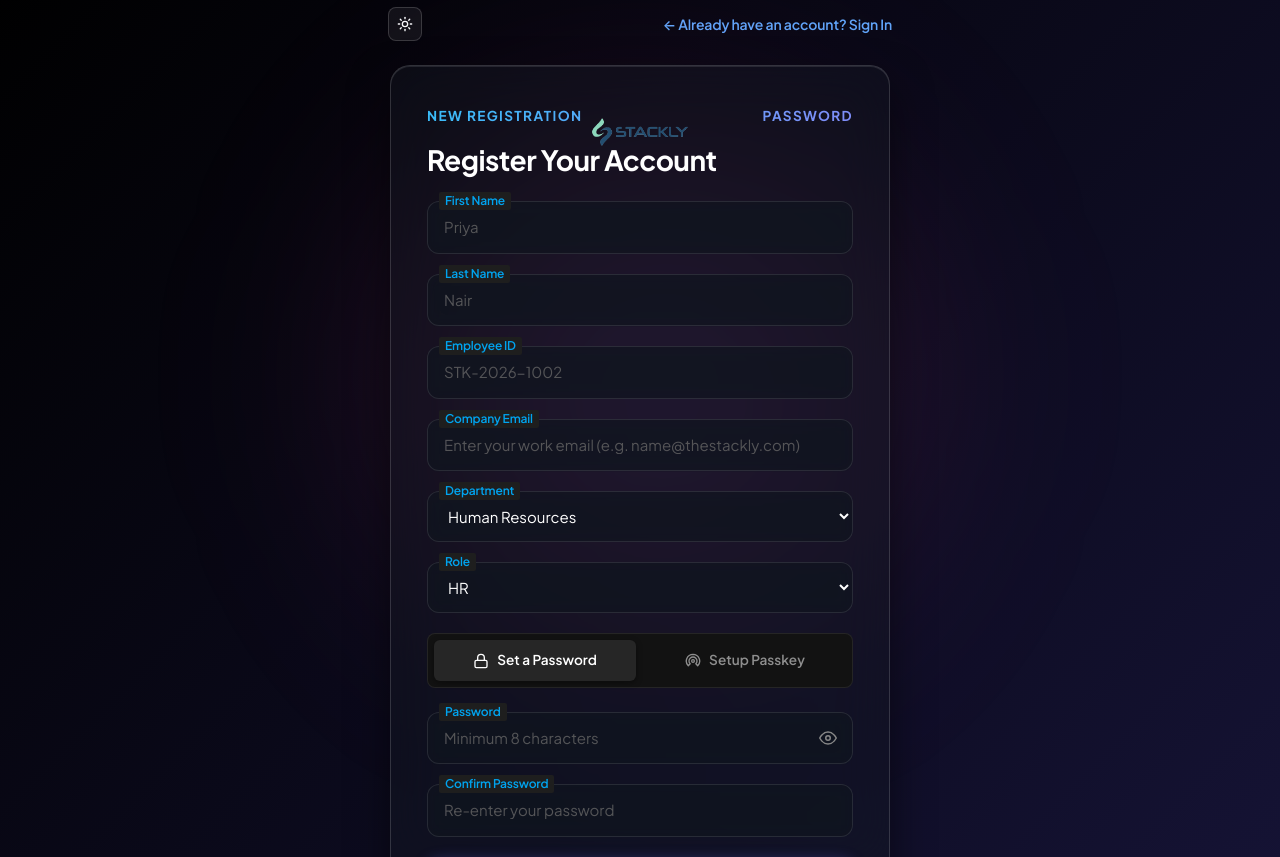
Test case: Step 3: SignUpPage Component Unit Tests › 3.3 should validate email format
The image size is (1280, 857).
Type "Jane" into the field labelled "First Name". click: (640, 228)
box: [427,201,853,254]
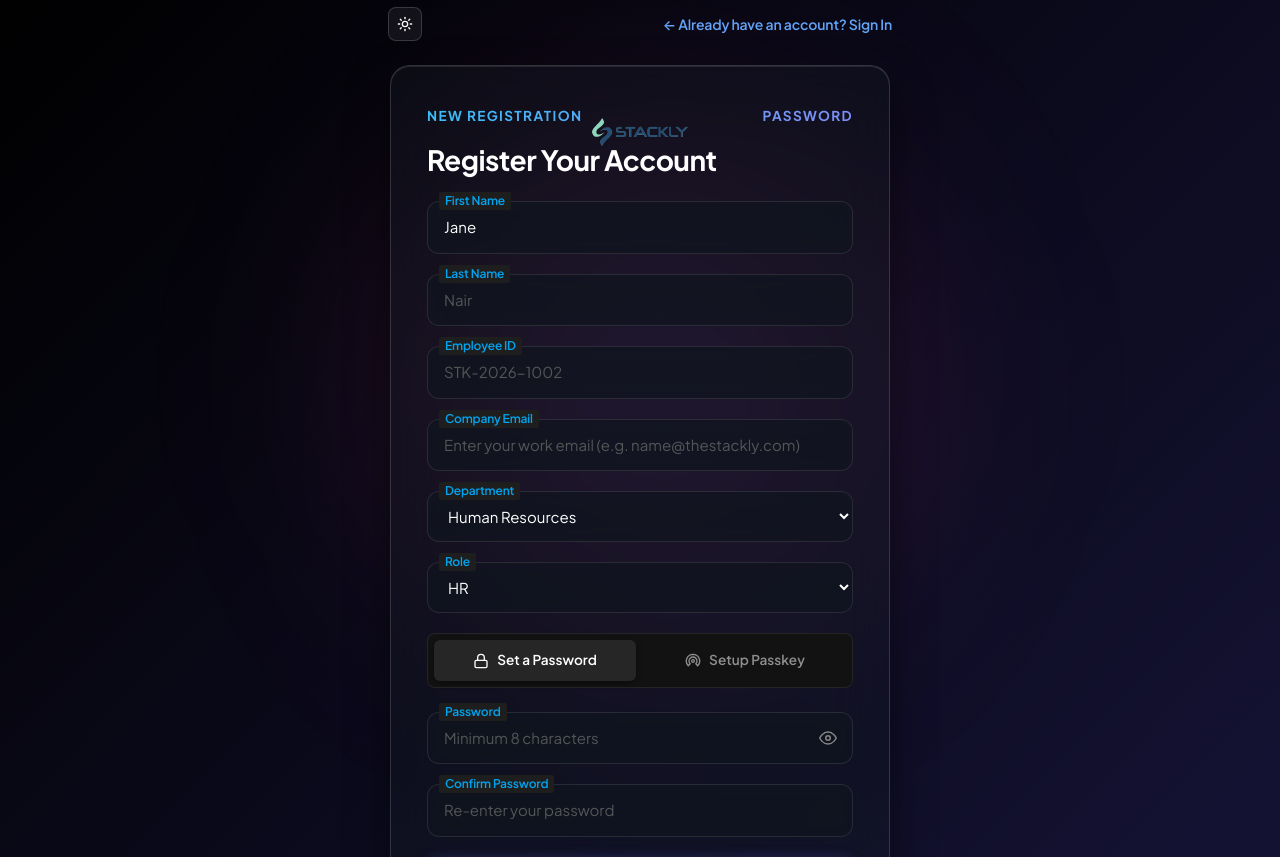
Type "Doe" into the field labelled "Last Name". click: (640, 300)
box: [427,274,853,326]
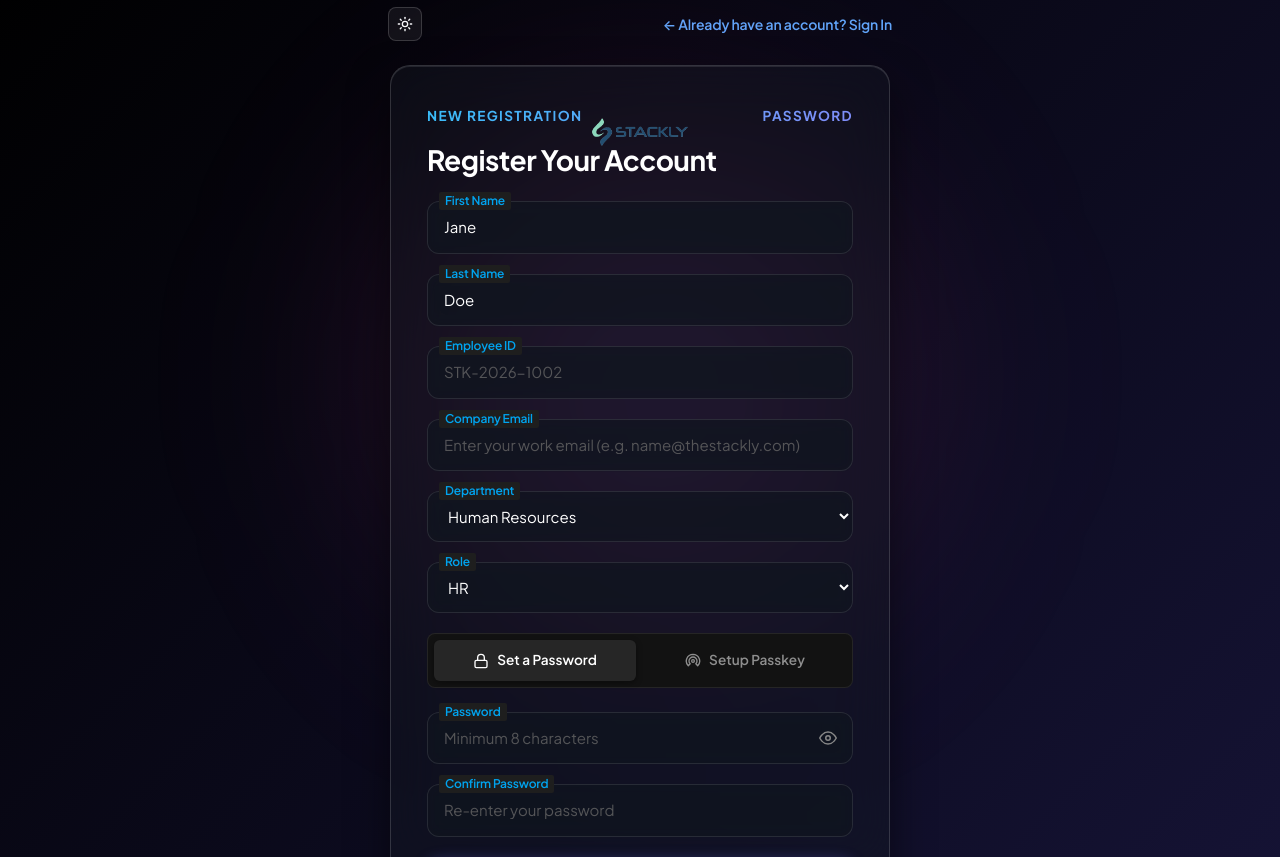
Type "STK-2026-1001" into the field labelled "Employee ID". click: (640, 373)
box: [427,346,853,399]
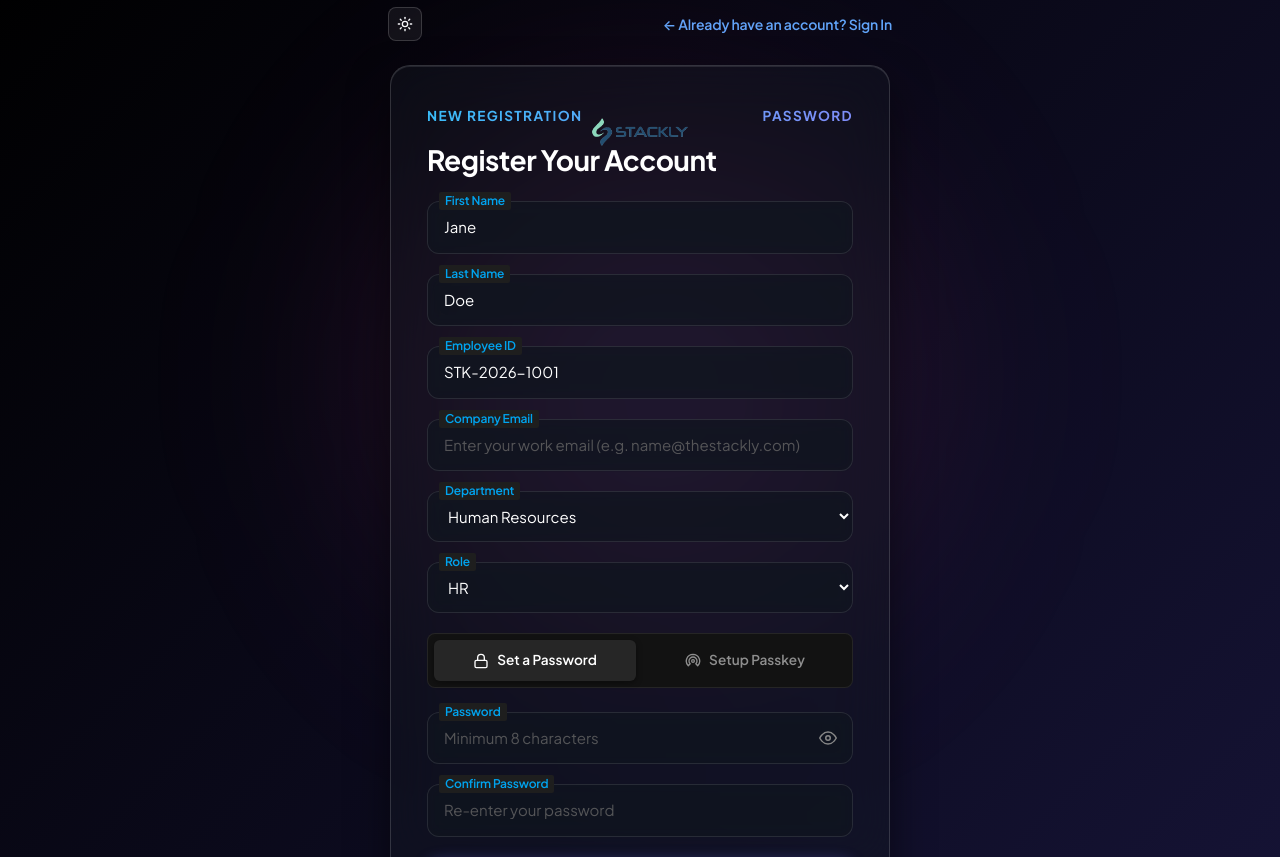
Type "invalid-email-format" into the field labelled "Company Email". click: (640, 445)
box: [427,419,853,471]
(page scrolled)
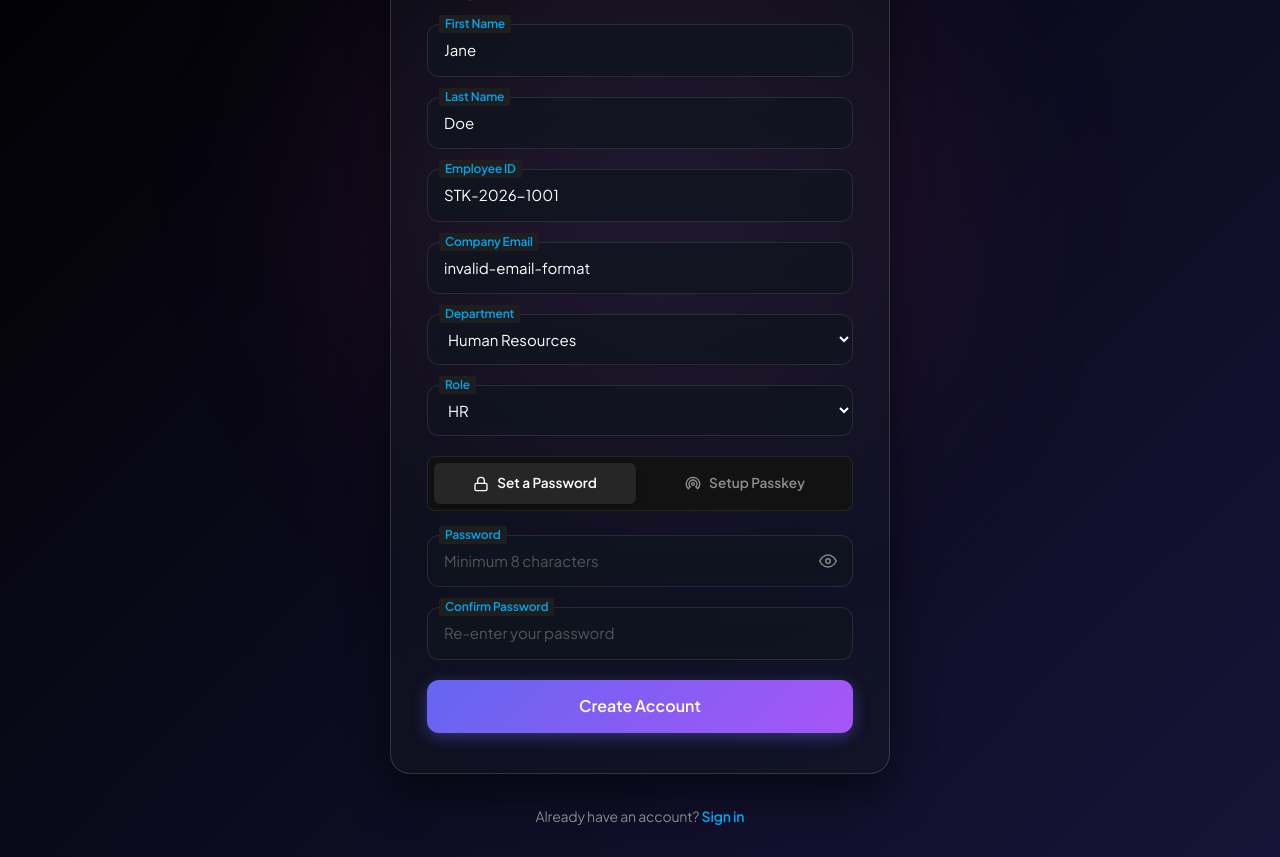
Click the button "Create Account". click: (640, 706)
box: [427,680,853,733]
(page scrolled)
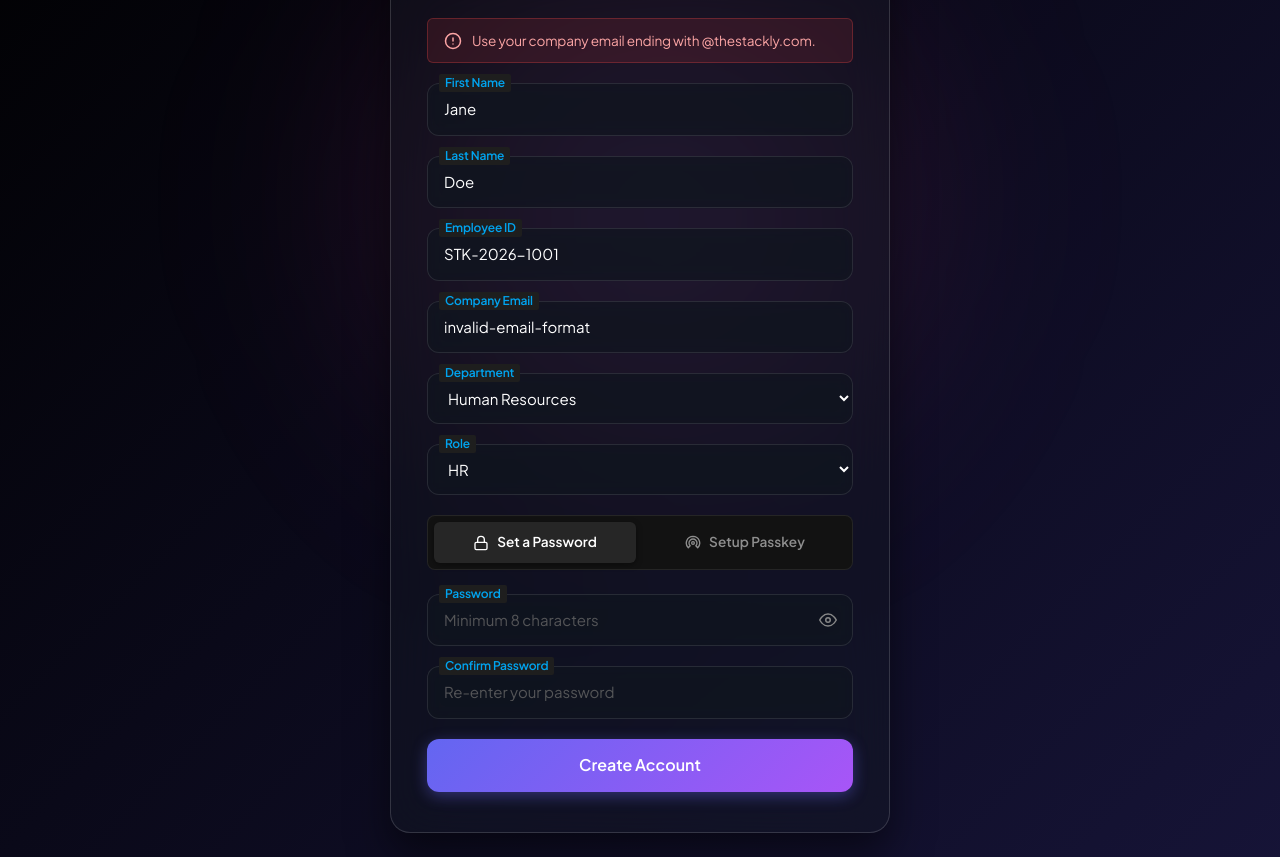
Check: the text "Use your company email ending with @thestackly.com." is shown, box [472,31,816,50]
